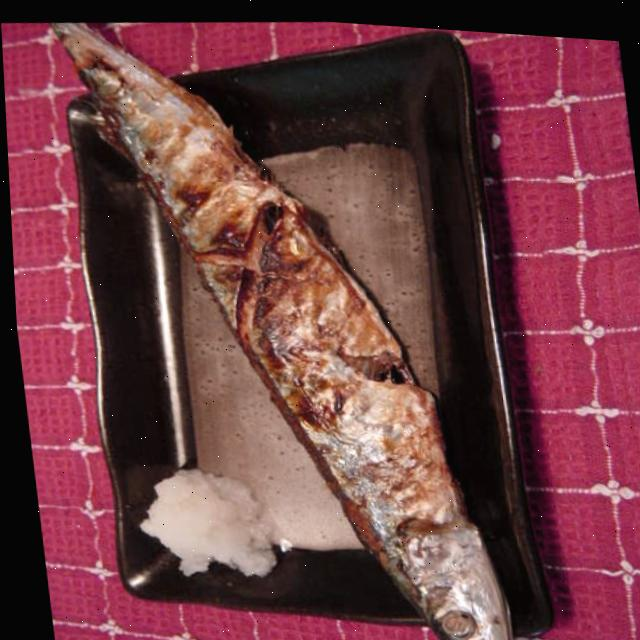熟制海鲜: (28, 1, 507, 640)
